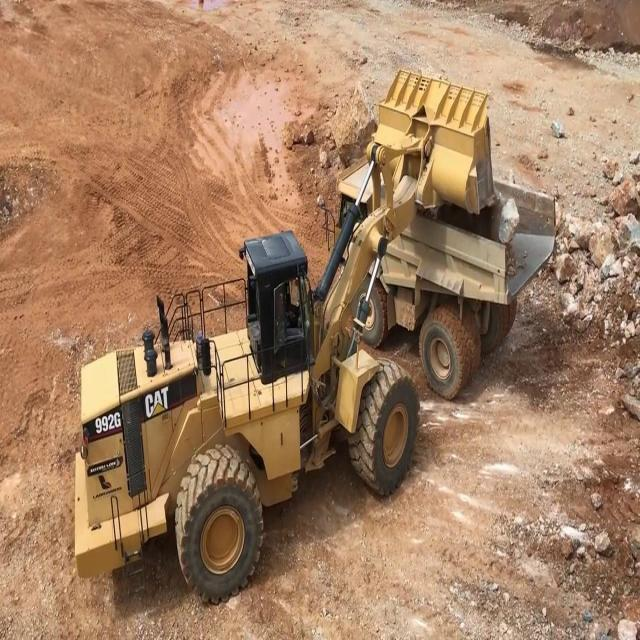Dump Truck: (338, 156, 556, 386)
Loader: (66, 63, 494, 603)
